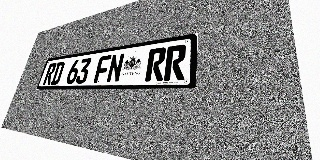3: (75, 58, 92, 84)
6: (65, 59, 82, 84)
D: (50, 61, 65, 85)
F: (93, 55, 112, 83)
N: (106, 53, 125, 83)
R: (164, 44, 187, 81), (145, 47, 167, 81), (42, 63, 57, 85)
